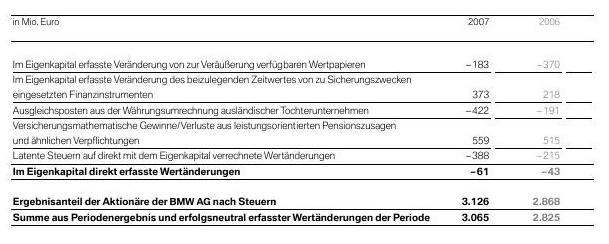table: (0, 0, 609, 244)
